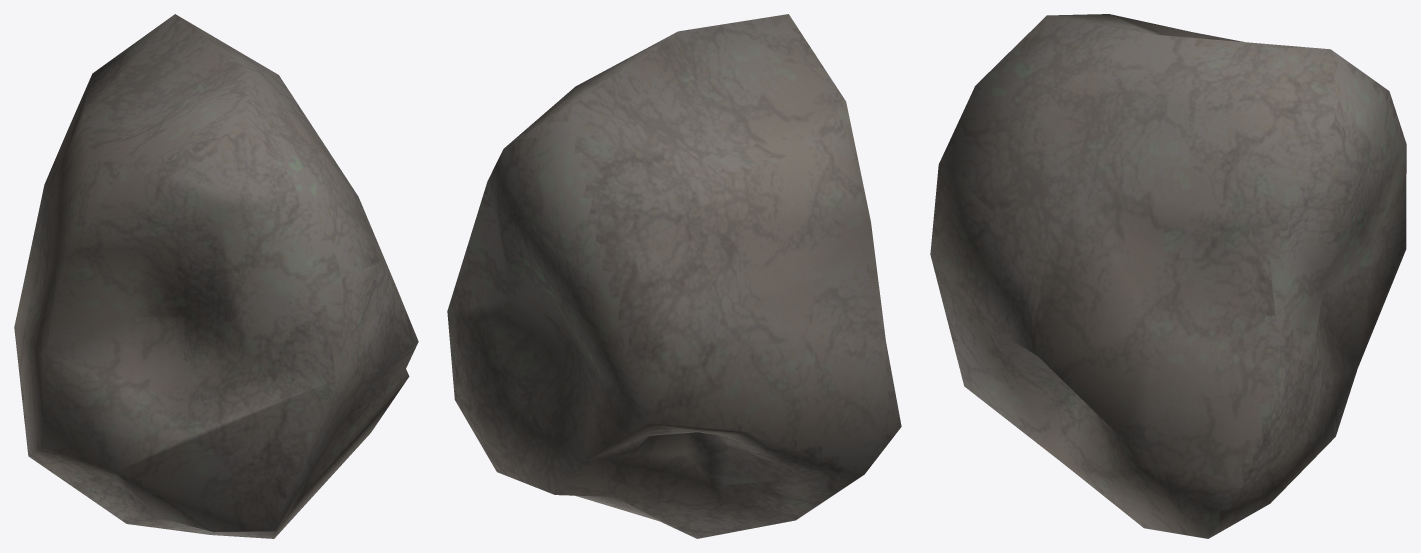
Rendered from Rock.fbx.
3 views of the same model, side by side, from view 1: azimuth 30°, elevation 25°; view 2: azimuth 150°, elevation 25°; view 3: azimuth 270°, elevation 25° (orthographic). The views are drawn at different scales.
Parts seen in each view (by area): view 1: Rock_Low; view 2: Rock_Low; view 3: Rock_Low.
Part boxes in pixels (x1,y1,x2,y2): Rock_Low: (14,14,418,538); Rock_Low: (447,14,901,538); Rock_Low: (930,14,1406,538).
Bounding box in the file's own units: 1.81 × 2.18 × 1.94.
